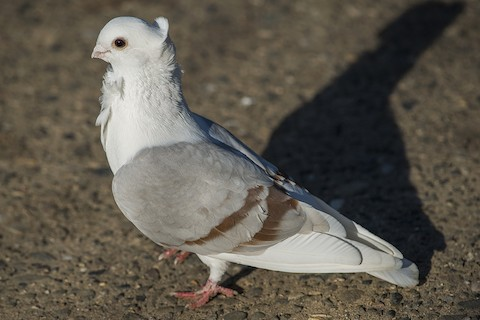pigeon: (89, 9, 427, 310)
